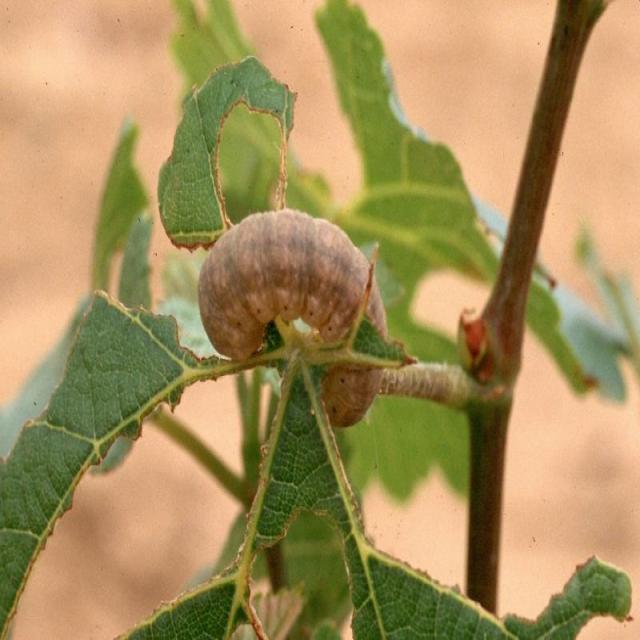Cutworm: (197, 207, 386, 382)
